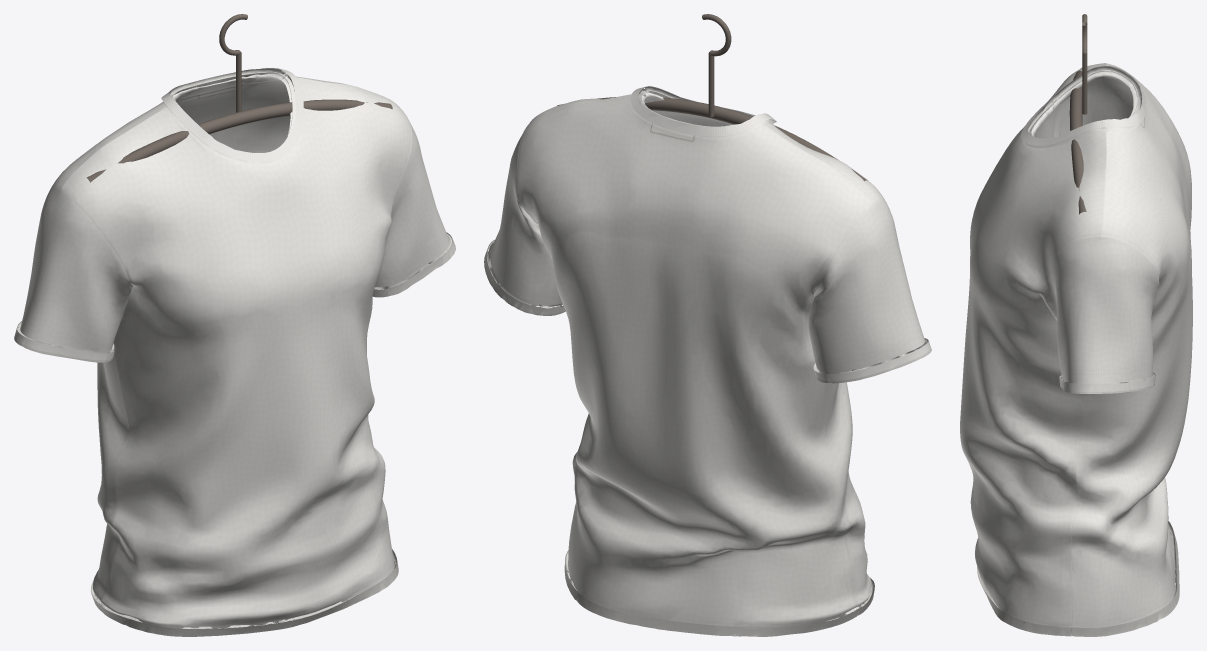
Rendered from tshirt-hanger-3d.glb.
The picture shows the model from 3 angles, left to right: view 1: azimuth 30°, elevation 25°; view 2: azimuth 150°, elevation 25°; view 3: azimuth 270°, elevation 25°; orthographic projection. The views are drawn at different scales.
Visible parts, largest first — view 1: HeavyweightTee3D; view 2: HeavyweightTee3D; view 3: HeavyweightTee3D.
Part boxes in pixels (x1,y1,x2,y2): HeavyweightTee3D: (14,14,455,636); HeavyweightTee3D: (484,14,931,636); HeavyweightTee3D: (960,14,1192,636).
Bounding box in the file's own units: 0.5641 × 0.7147 × 0.269.
Materials: 2 (1 with a texture image).
